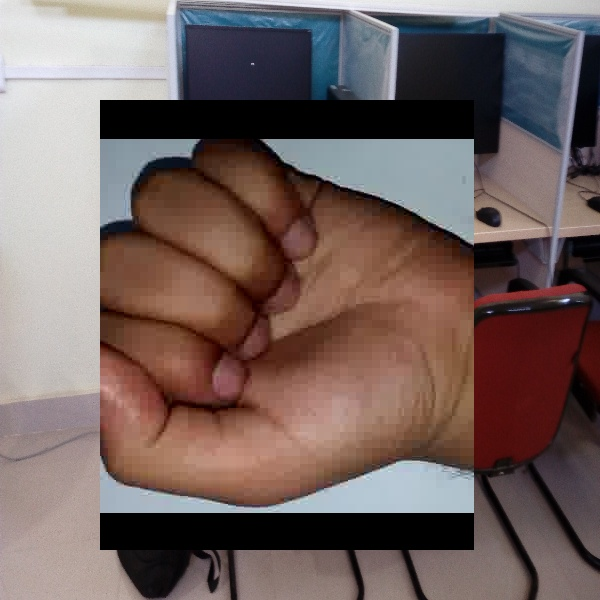A: (100, 100, 474, 550)
